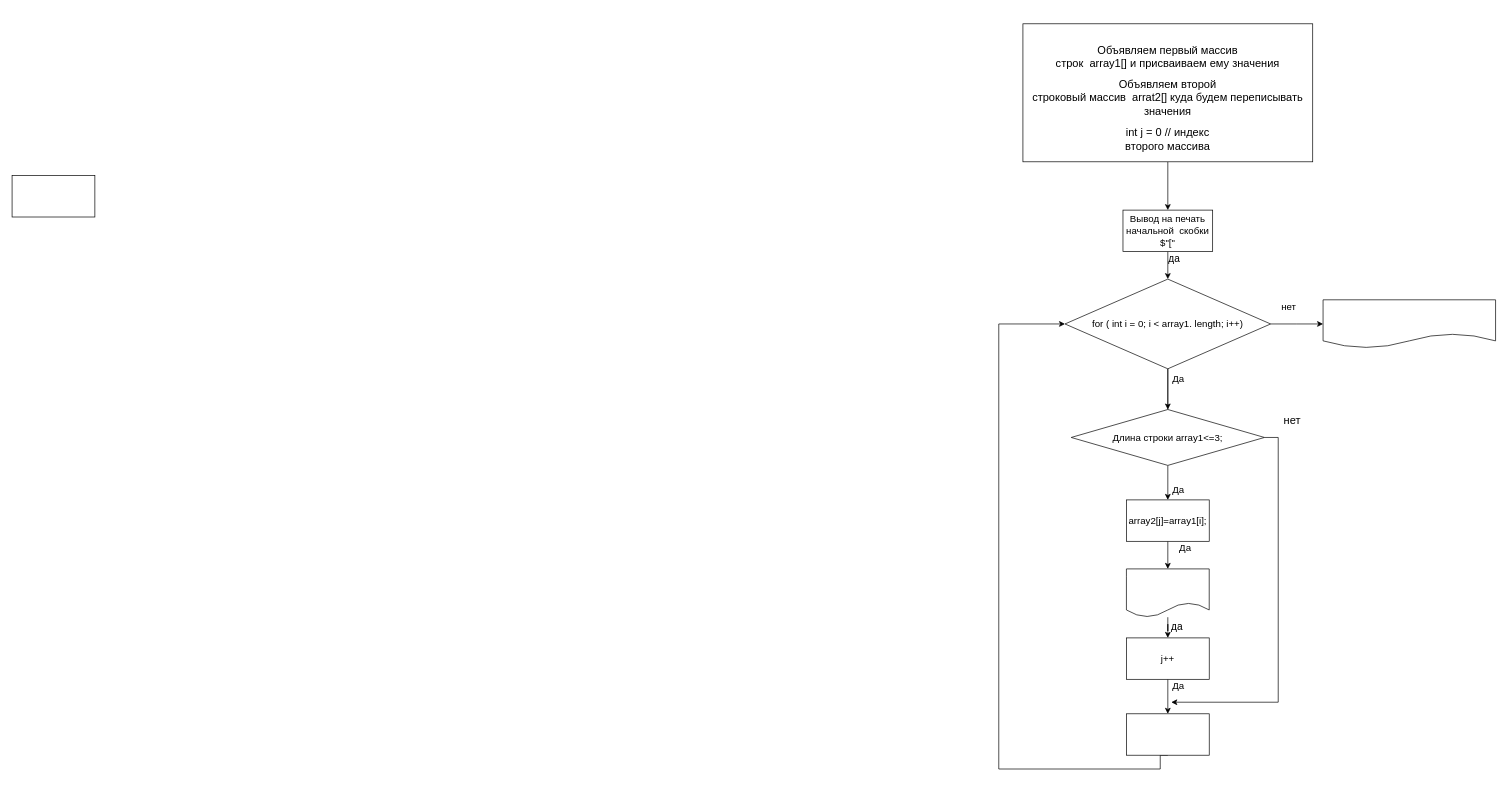
This 1508x787 diagram has some shape labels left out. The shapes that lost their labels are listed below. From the top down, each one's box as (x1, y1, x2, y2) in pixels, then its label:
(1322, 299, 1496, 348): Выводим закрывающую скобку ]
(1126, 568, 1209, 617): вывод на печать aarray2[j]
(1126, 713, 1209, 755): i=i++
